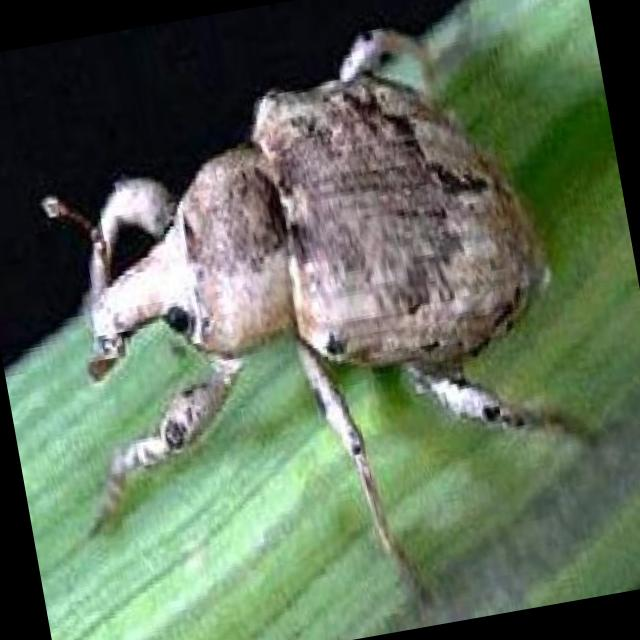rice-bug: (29, 6, 560, 527)
